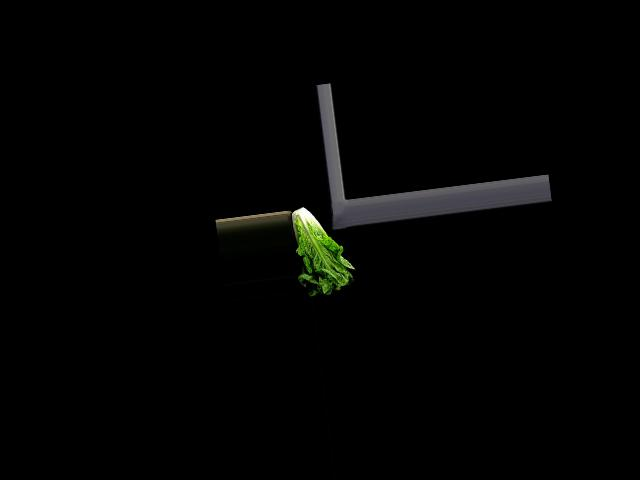lettuce: (288, 200, 357, 299)
